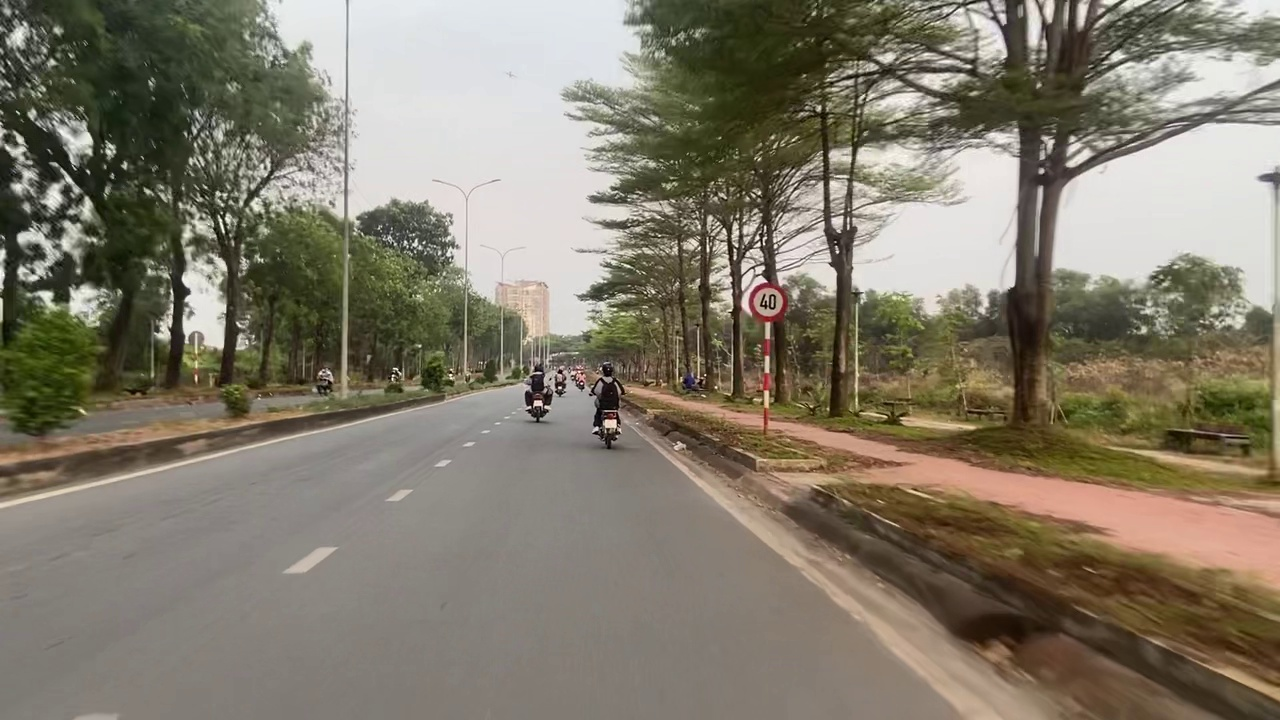gioi_han_40km: (748, 282, 789, 322)
